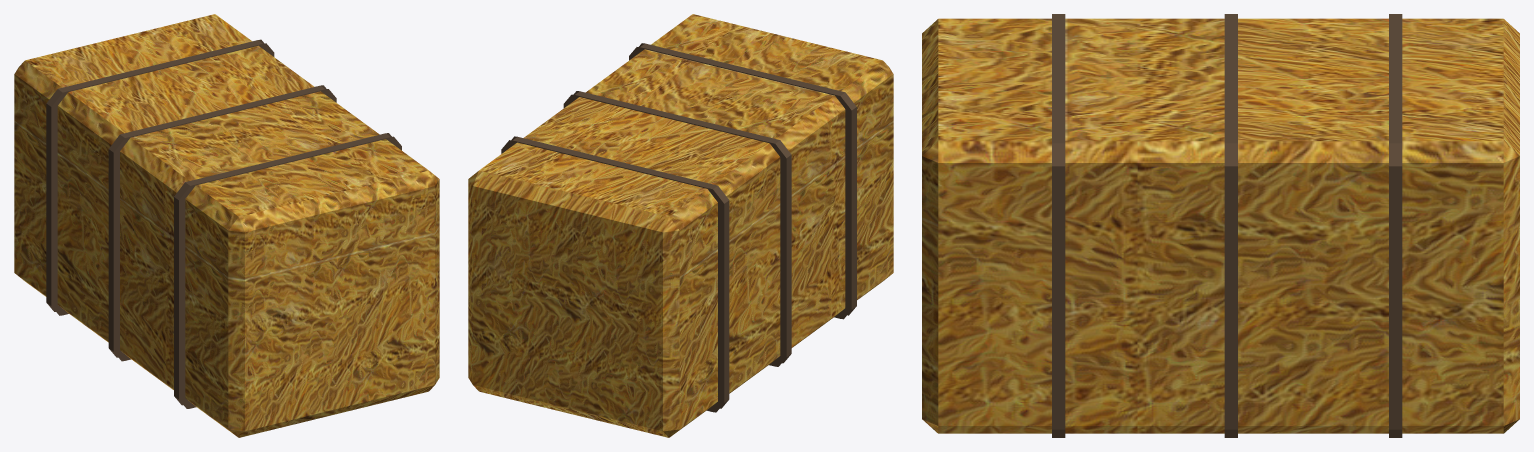
File: seno.fbx
3 views of the same model, side by side, from view 1: azimuth 30°, elevation 25°; view 2: azimuth 150°, elevation 25°; view 3: azimuth 270°, elevation 25° (orthographic). The views are drawn at different scales.
Visible parts, largest first — view 1: pasted__pCube4, pasted__polySurface1, polySurface1, pasted__pasted__polySurface1; view 2: pasted__pCube4, pasted__polySurface1, polySurface1, pasted__pasted__polySurface1; view 3: pasted__pCube4, polySurface1, pasted__polySurface1, pasted__pasted__polySurface1.
Part boxes in pixels (x1,y1,x2,y2): pasted__pCube4: [14, 14, 439, 437]; pasted__polySurface1: [108, 85, 336, 361]; polySurface1: [46, 39, 274, 315]; pasted__pasted__polySurface1: [174, 133, 401, 408]; pasted__pCube4: [468, 14, 893, 437]; pasted__polySurface1: [563, 91, 791, 366]; polySurface1: [501, 136, 729, 412]; pasted__pasted__polySurface1: [629, 43, 856, 319]; pasted__pCube4: [922, 18, 1519, 433]; polySurface1: [1389, 14, 1402, 437]; pasted__polySurface1: [1224, 14, 1237, 437]; pasted__pasted__polySurface1: [1052, 14, 1065, 437].
Bounding box in the file's own units: 1.29 × 1.23 × 2.27.
2 materials, 1 textured.
